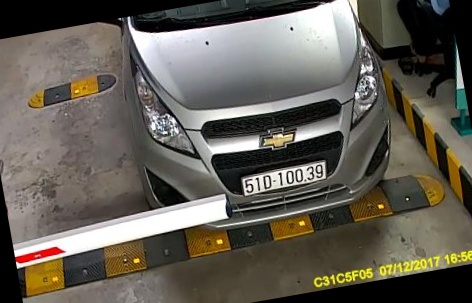plate: (234, 164, 343, 200)
